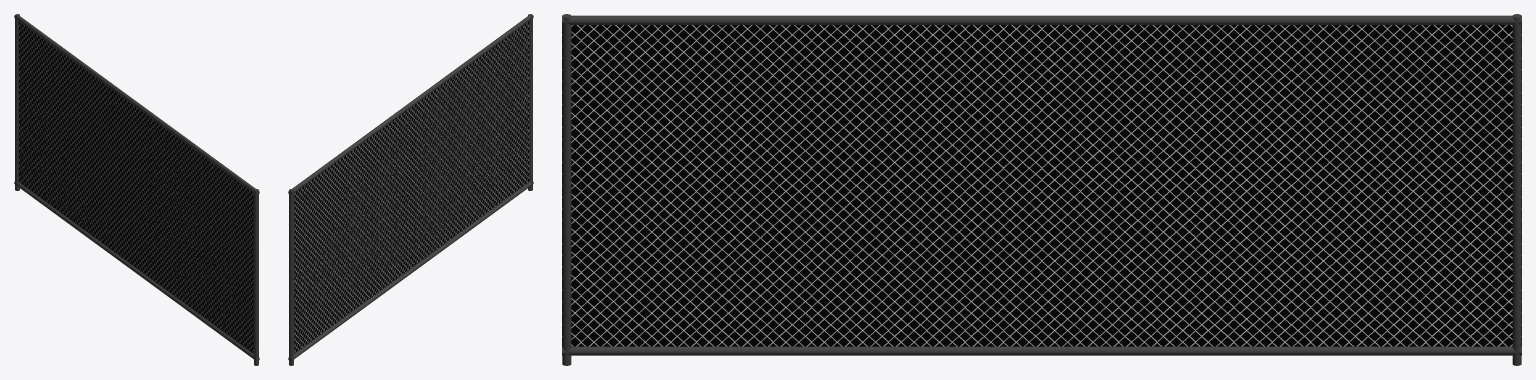
The model's file is fence_high_001.fbx.
3 renders of one model, left to right at view 1: azimuth 30°, elevation 25°; view 2: azimuth 150°, elevation 25°; view 3: azimuth 270°, elevation 25°, orthographic. The views are drawn at different scales.
Parts seen in each view (by area): view 1: LOD0; view 2: LOD0; view 3: LOD0.
Part boxes in pixels (left/top/right/bottom): LOD0: left=14, top=14, right=259, bottom=365; LOD0: left=288, top=14, right=533, bottom=365; LOD0: left=562, top=14, right=1521, bottom=365.
Bounding box in the file's own units: 10 × 400 × 1000.
